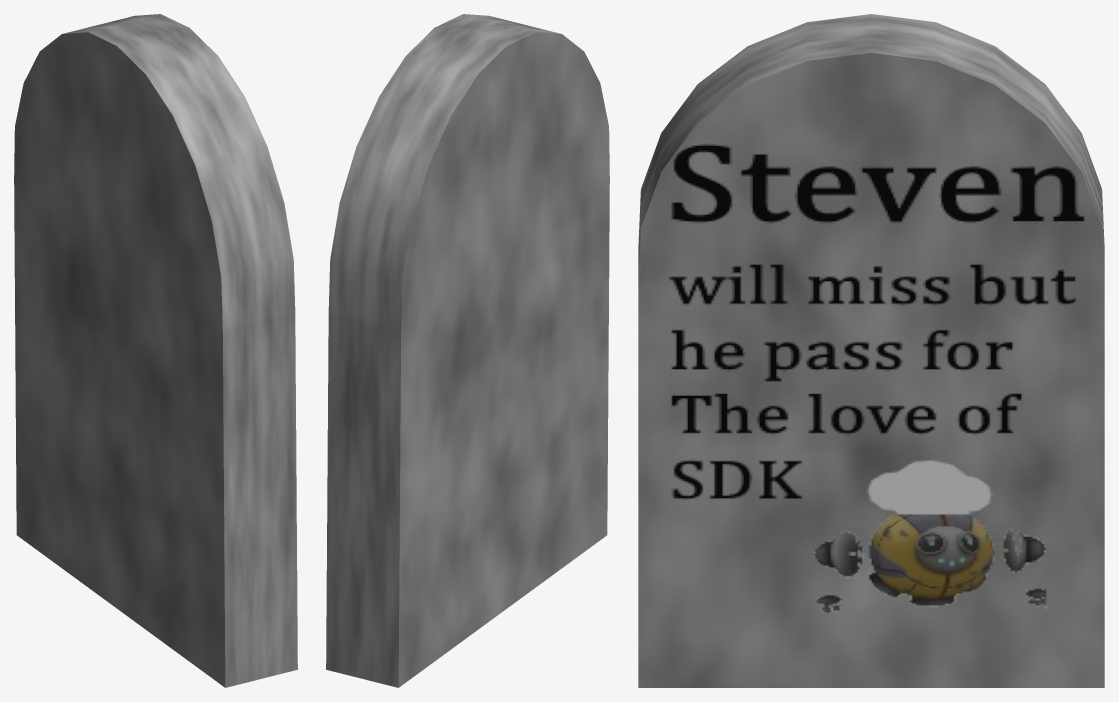
File: Gravestone.stevem.dae
3 renders of one model, left to right at view 1: azimuth 30°, elevation 25°; view 2: azimuth 150°, elevation 25°; view 3: azimuth 270°, elevation 25°, orthographic. The views are drawn at different scales.
Parts seen in each view (by area): view 1: SketchUp; view 2: SketchUp; view 3: SketchUp.
Part boxes in pixels (<box>): SketchUp: <box>14,14,297,687</box>; SketchUp: <box>326,14,609,687</box>; SketchUp: <box>638,14,1104,687</box>.
Bounding box in the file's own units: 0.0341 × 0.161 × 0.2413.
Materials: 1 (1 with a texture image).
